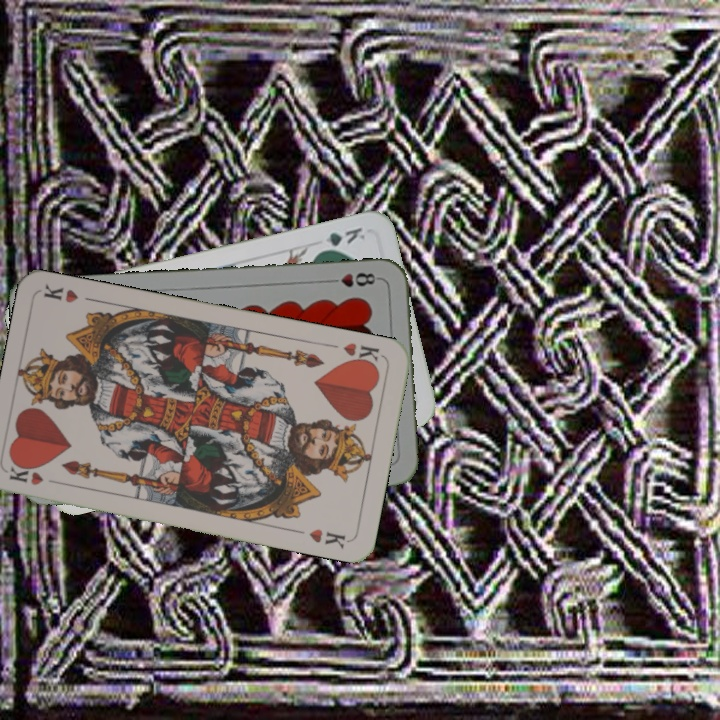GK: (313, 223, 368, 255)
H8: (323, 268, 382, 290)
HK: (5, 461, 65, 488), (339, 338, 382, 370)
